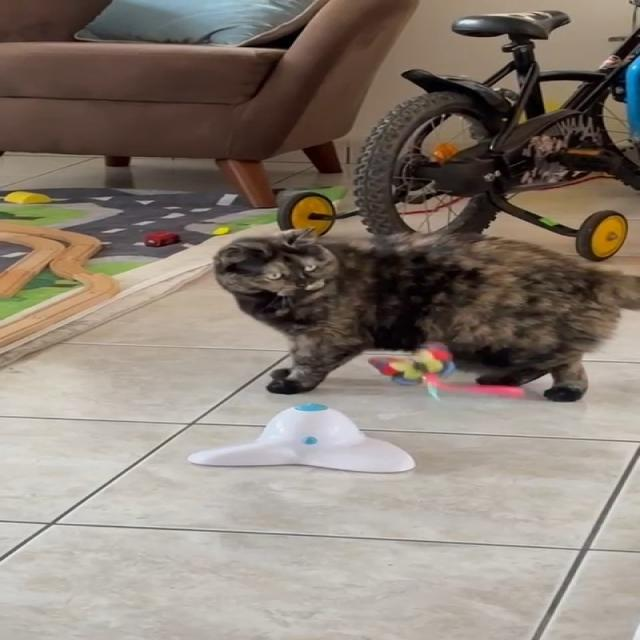authorized: (211, 226, 638, 402)
